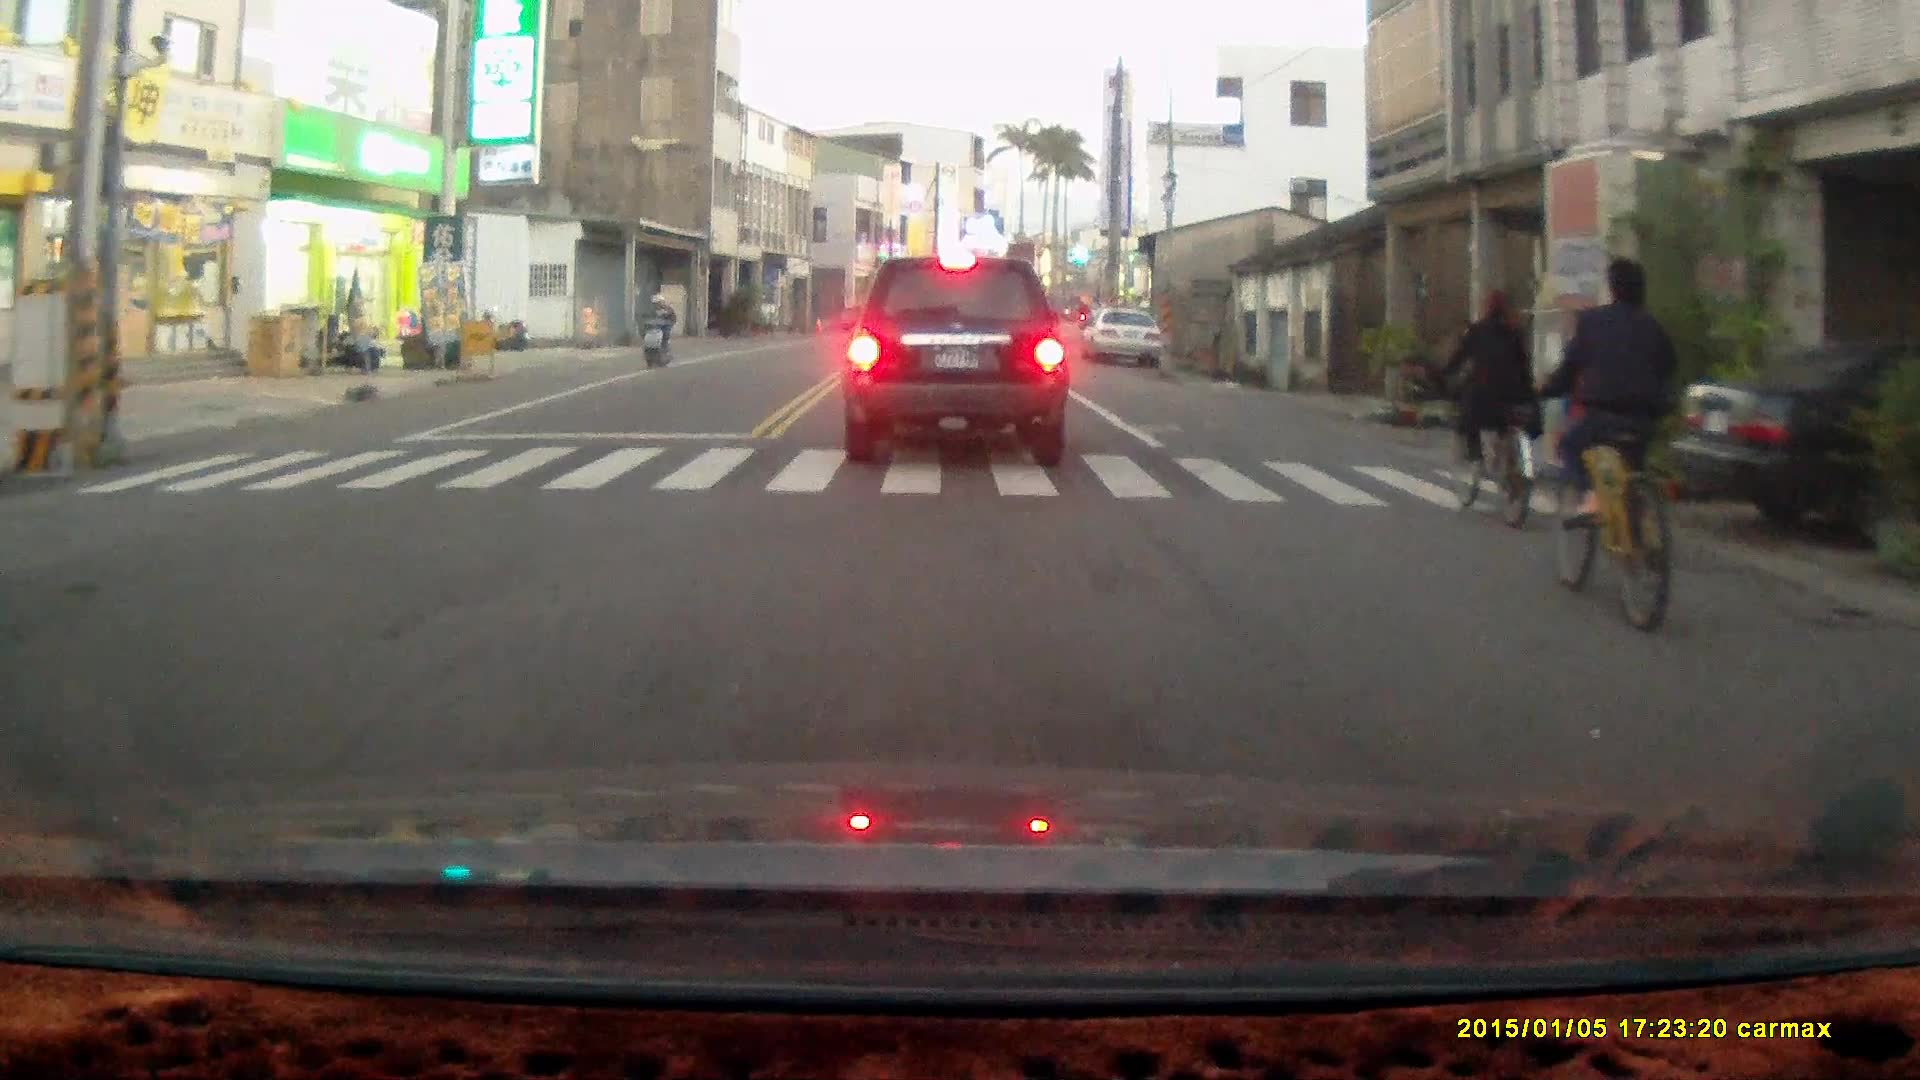rider: (1531, 252, 1685, 634), (1433, 284, 1547, 532), (637, 289, 675, 371)
vehicle: (837, 246, 1082, 465), (1663, 346, 1920, 547), (1089, 310, 1166, 369)
